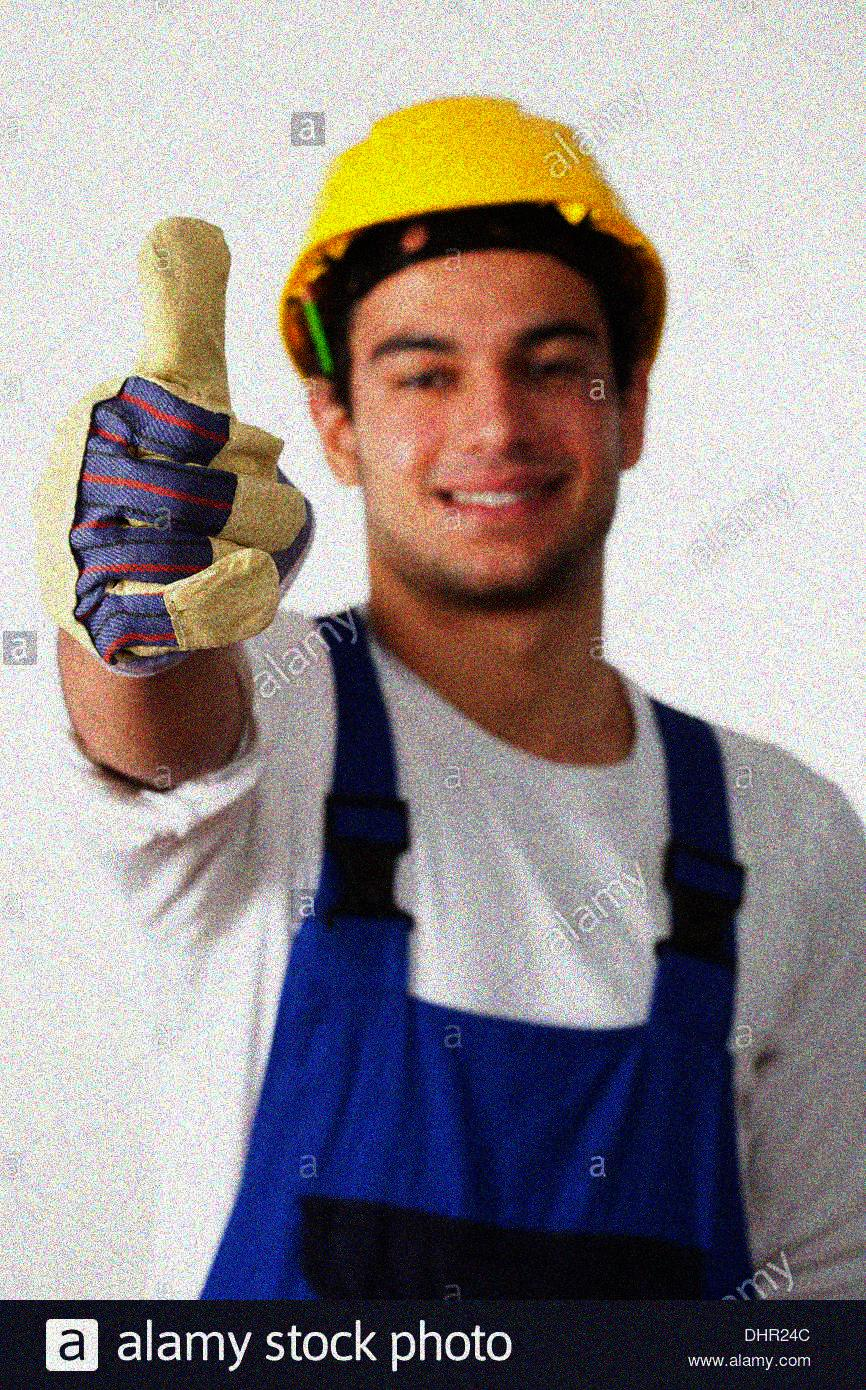helmet: (271, 88, 675, 607)
